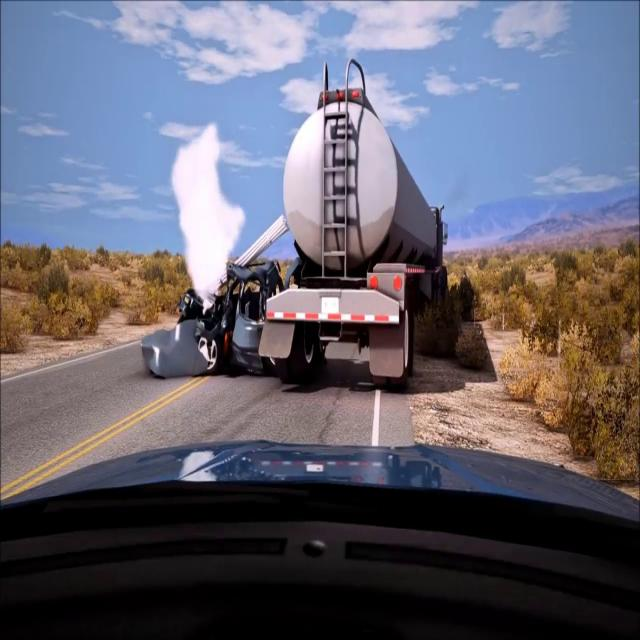accident: (139, 55, 450, 386)
